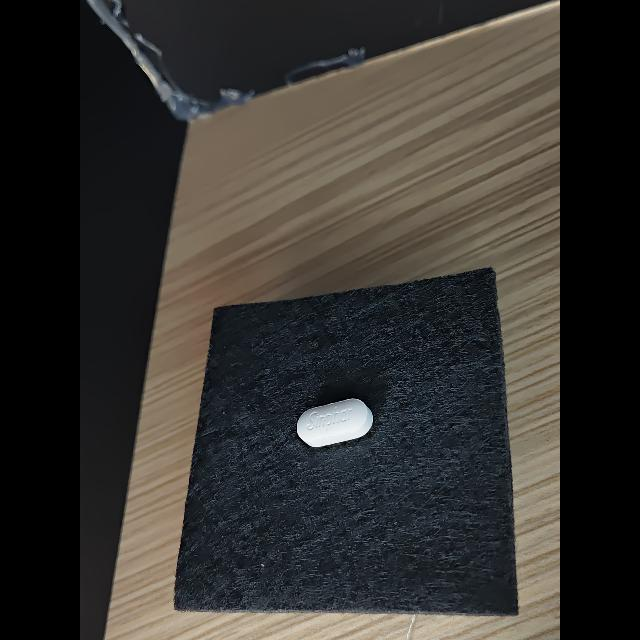Intact Pill: (297, 398, 373, 447)
